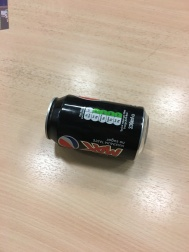can_black: (41, 85, 160, 178)
